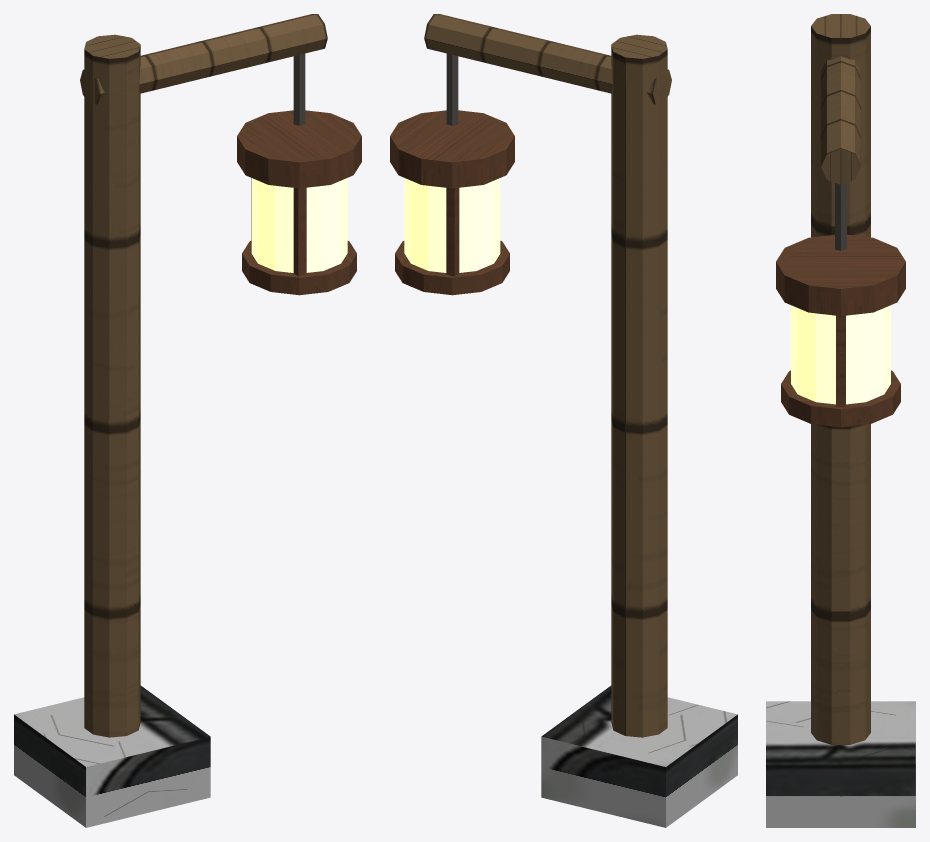
Rendered from ben-do-den-bao-treo-coc.glb.
The picture shows the model from 3 angles, left to right: view 1: azimuth 30°, elevation 25°; view 2: azimuth 150°, elevation 25°; view 3: azimuth 270°, elevation 25°; orthographic projection. The views are drawn at different scales.
Parts seen in each view (by area): view 1: ben-do-den-bao-treo-coc; view 2: ben-do-den-bao-treo-coc; view 3: ben-do-den-bao-treo-coc.
Part boxes in pixels (box(x1,y1,x2,y2)): ben-do-den-bao-treo-coc: box(14, 14, 361, 827); ben-do-den-bao-treo-coc: box(390, 14, 737, 827); ben-do-den-bao-treo-coc: box(766, 14, 915, 827).
Bounding box in the file's own units: 0.73 × 1.7 × 0.3.
5 materials, 3 textured.
